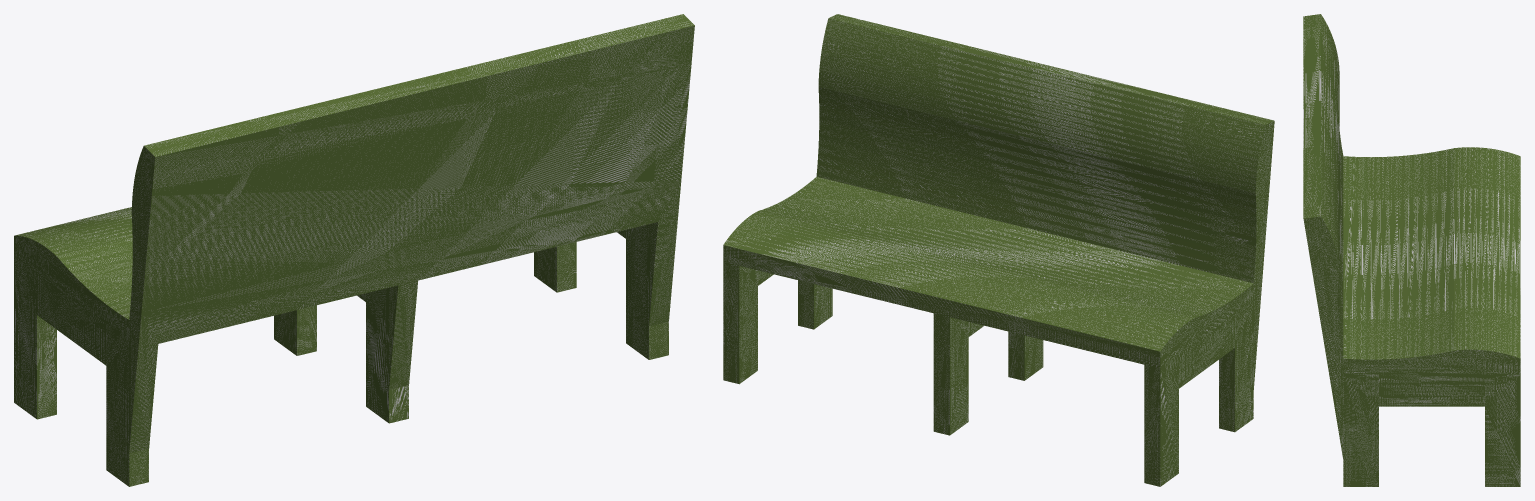
3 renders of one model, left to right at view 1: azimuth 30°, elevation 25°; view 2: azimuth 150°, elevation 25°; view 3: azimuth 270°, elevation 25°, orthographic. The views are drawn at different scales.
Parts seen in each view (by area): view 1: mesh1_mesh1-geometry, mesh2_mesh2-geometry, mesh8_mesh8-geometry, mesh4_mesh4-geometry, mesh3_mesh3-geometry; view 2: mesh1_mesh1-geometry, mesh8_mesh8-geometry, mesh2_mesh2-geometry, mesh3_mesh3-geometry, mesh4_mesh4-geometry; view 3: mesh8_mesh8-geometry, mesh1_mesh1-geometry, mesh4_mesh4-geometry.
Part boxes in pixels (x1,y1,x2,y2): mesh1_mesh1-geometry: (129,14,694,453); mesh2_mesh2-geometry: (14,257,148,486); mesh8_mesh8-geometry: (14,207,132,340); mesh4_mesh4-geometry: (534,224,668,359); mesh3_mesh3-geometry: (274,287,408,423); mesh1_mesh1-geometry: (816,14,1274,389); mesh8_mesh8-geometry: (723,177,1253,368); mesh2_mesh2-geometry: (1144,300,1253,486); mesh3_mesh3-geometry: (933,313,1043,435); mesh4_mesh4-geometry: (723,262,832,384); mesh8_mesh8-geometry: (1343,147,1520,374); mesh1_mesh1-geometry: (1303,14,1343,458); mesh4_mesh4-geometry: (1343,374,1520,486).
Size of the model in its own units: 0.7922 by 0.4937 by 0.3589.
